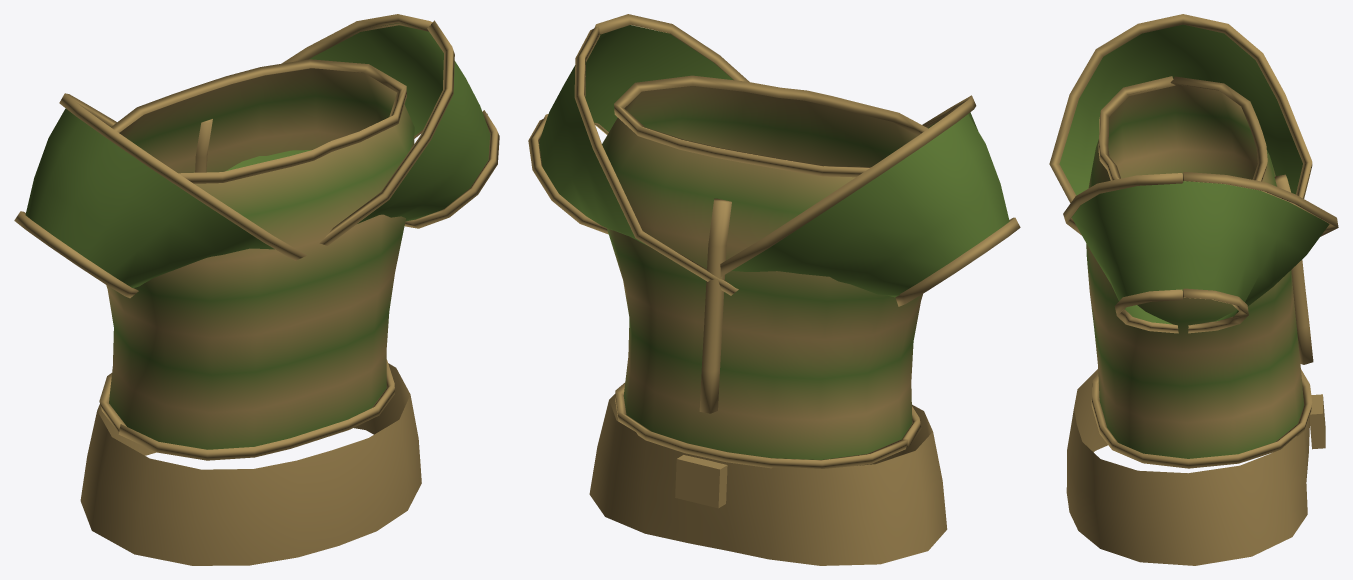
Rendered from turtle_scale_mail.glb.
3 renders of one model, left to right at view 1: azimuth 30°, elevation 25°; view 2: azimuth 150°, elevation 25°; view 3: azimuth 270°, elevation 25°, orthographic. The views are drawn at different scales.
Visible parts, largest first — view 1: turtle_scale_mail_chest; view 2: turtle_scale_mail_chest; view 3: turtle_scale_mail_chest.
Part boxes in pixels (box(x1,y1,x2,y2)): turtle_scale_mail_chest: box(14, 14, 499, 565); turtle_scale_mail_chest: box(528, 14, 1020, 565); turtle_scale_mail_chest: box(1049, 14, 1338, 565).
Size of the model in its own units: 0.6477 by 0.592 by 0.3782.
